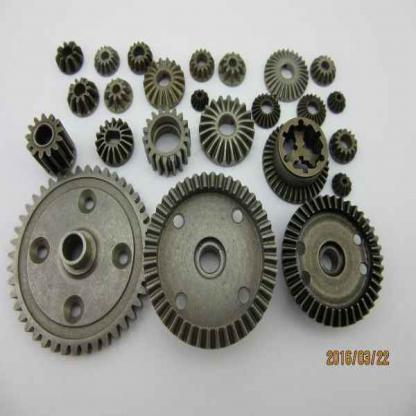FOD: (4, 160, 154, 361), (142, 106, 192, 178), (26, 112, 78, 179), (94, 115, 134, 166), (69, 75, 98, 119), (330, 127, 358, 165), (216, 51, 246, 86), (92, 44, 119, 74)
